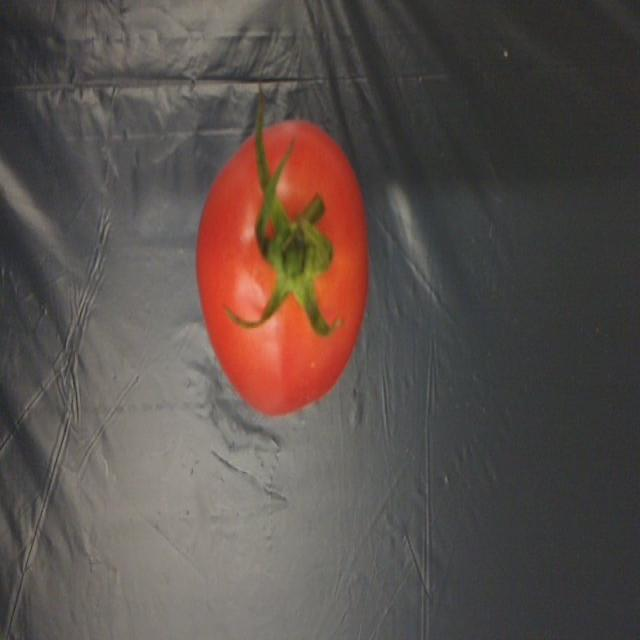sari: (183, 109, 367, 440)
